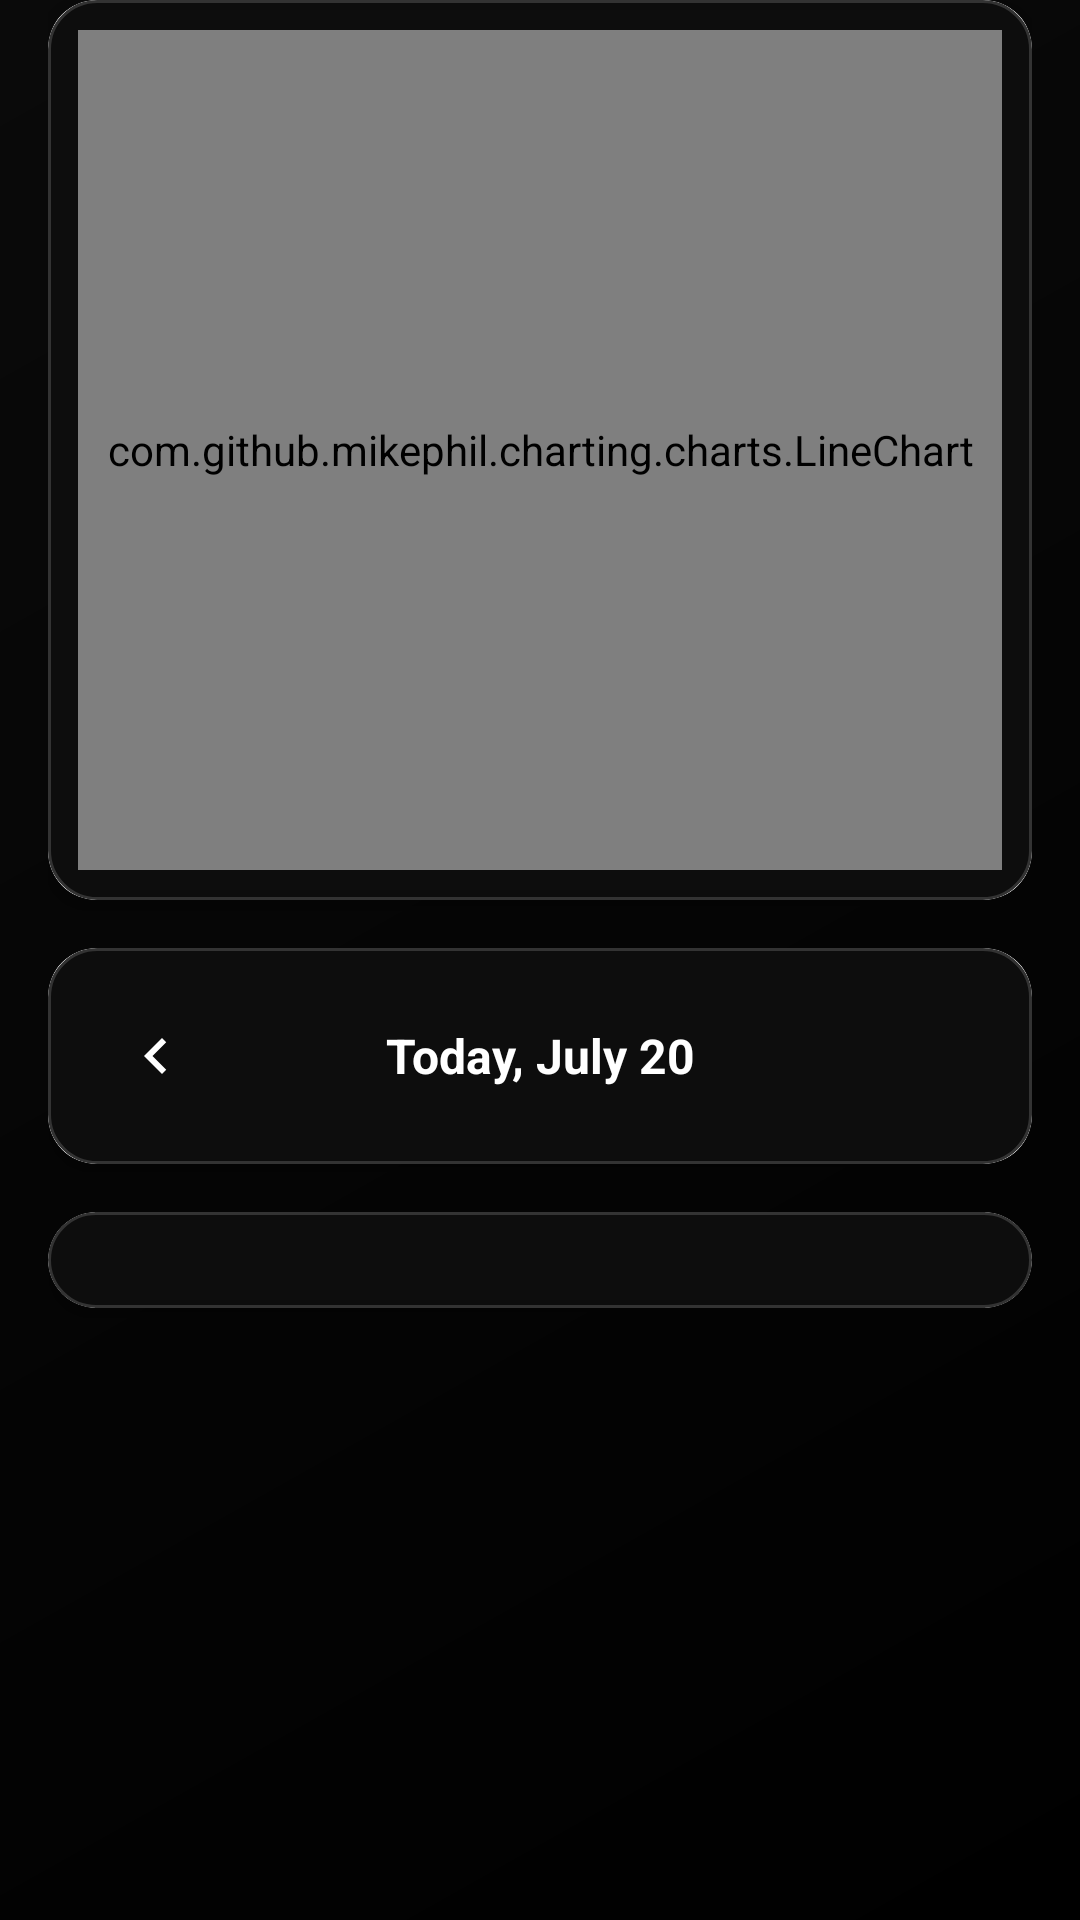

Icon bounding boxes for this 1080 x 1920 phone screenshot, format (x1, y1, x2, y2):
chevron left: (144, 1038, 166, 1074)
